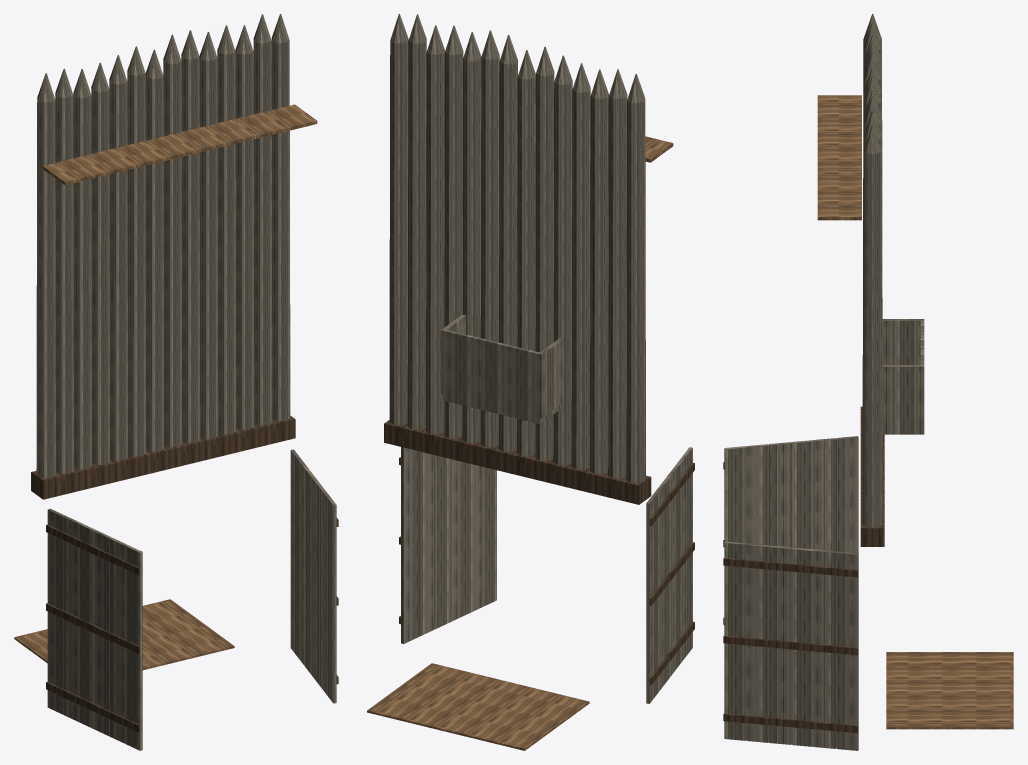
Rendered from Gate_Rampart_Wood_1.gltf.
The picture shows the model from 3 angles, left to right: view 1: azimuth 30°, elevation 25°; view 2: azimuth 150°, elevation 25°; view 3: azimuth 270°, elevation 25°; orthographic projection. The views are drawn at different scales.
Parts seen in each view (by area): view 1: Gate_Rampart_Wood_1; view 2: Gate_Rampart_Wood_1; view 3: Gate_Rampart_Wood_1.
Part boxes in pixels (bbox=[...]): Gate_Rampart_Wood_1: bbox=[14, 14, 338, 750]; Gate_Rampart_Wood_1: bbox=[367, 14, 694, 750]; Gate_Rampart_Wood_1: bbox=[723, 14, 1013, 750].
Size of the model in its own units: 8.4 by 20.19 by 8.45.
Materials: 3 (3 with a texture image).
